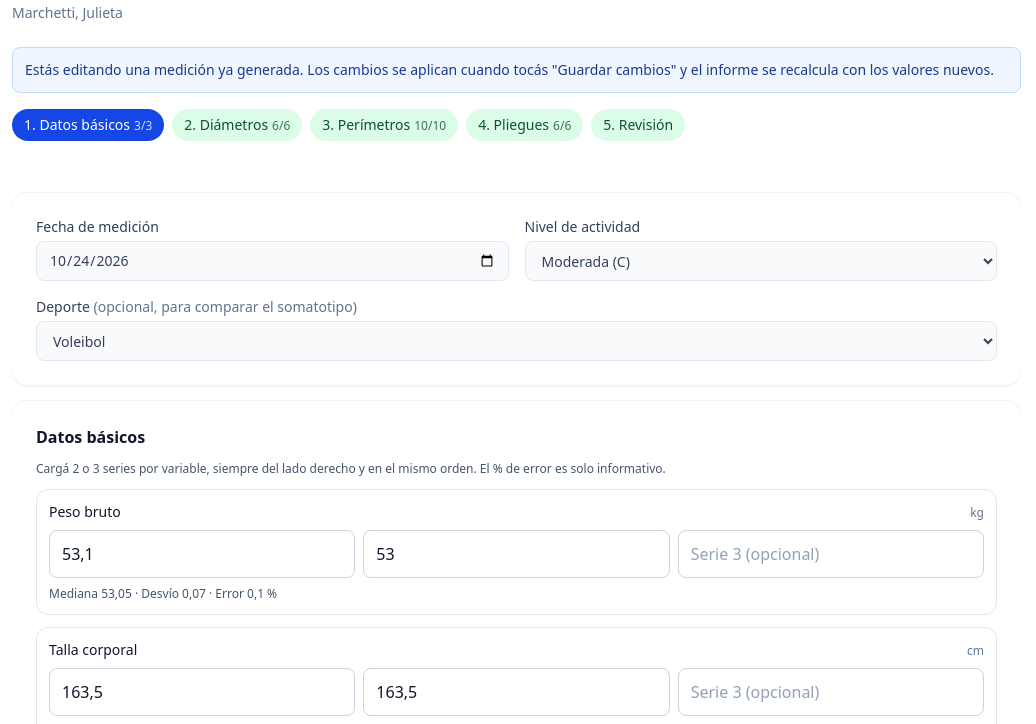
Test: asistente — datos que llegan desde el servidor › al editar muestra lo guardado en la medición (no "Mis instrumentos") y a quien midió, aunque ya no figure en la lista
Click the button "5. Revisión". click: (638, 125)
box: [591,109,685,141]
(page scrolled)
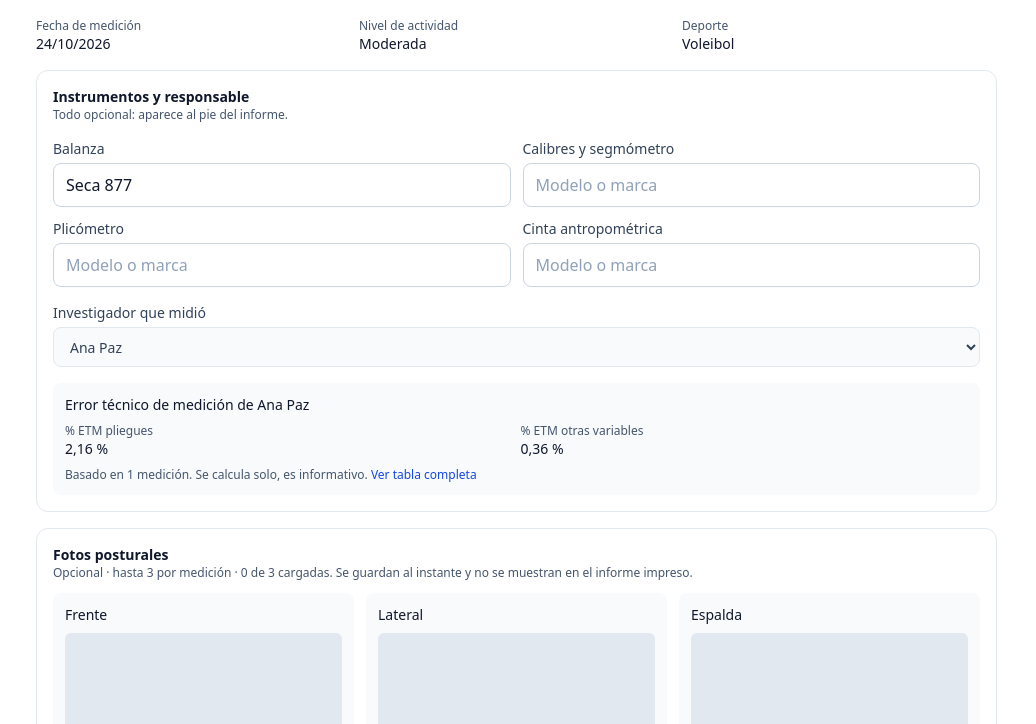
Expected: the field labelled "Balanza" holds "Seca 877", [53,163,510,207]
Expected: the field labelled "Plicómetro" is empty, [53,243,510,287]
Expected: the dropdown labelled "Investigador que midió" shows "Ana Paz", [53,327,980,367]
